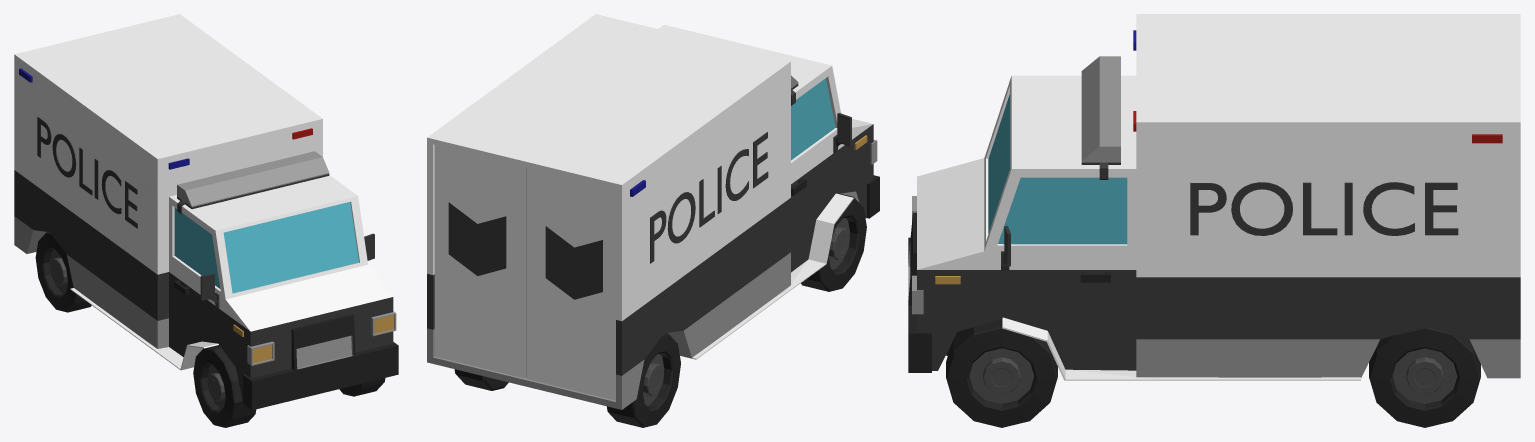
Rendered from Truck.fbx.
3 views of the same model, side by side, from view 1: azimuth 30°, elevation 25°; view 2: azimuth 150°, elevation 25°; view 3: azimuth 270°, elevation 25° (orthographic). The views are drawn at different scales.
Parts seen in each view (by area): view 1: Cube.001; view 2: Cube.001; view 3: Cube.001.
Part boxes in pixels (x1=…): Cube.001: x1=14, y1=14, x2=398, y2=427; Cube.001: x1=427, y1=14, x2=879, y2=427; Cube.001: x1=908, y1=14, x2=1520, y2=427.
Bounding box in the file's own units: 210 × 267 × 478.
